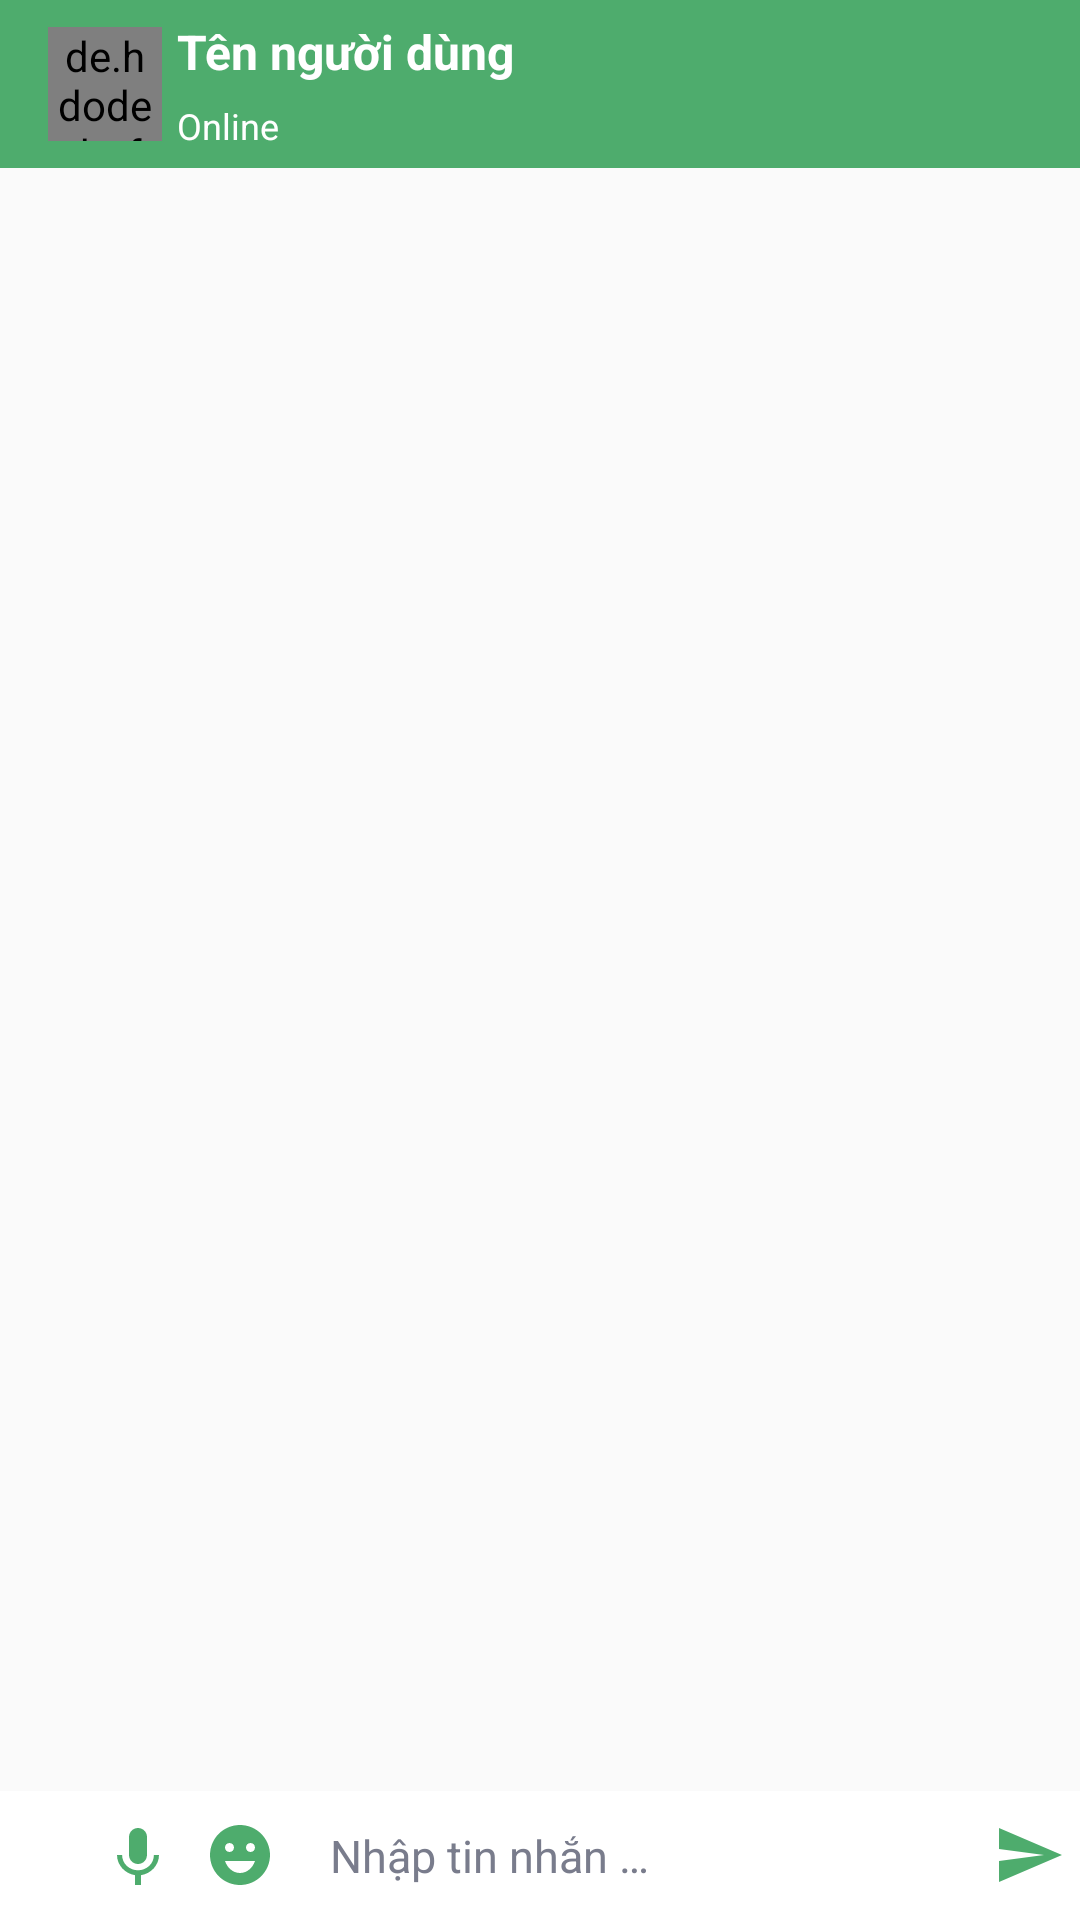

Icon bounding boxes for this 1080 × 1920 phone screenshot, format (x1,y1,x2,y2):
Gửi biểu cảm: (210,1825,270,1885)
Gửi tin nhắn: (999,1828,1062,1882)
Gửi âm thanh: (117,1828,159,1885)
